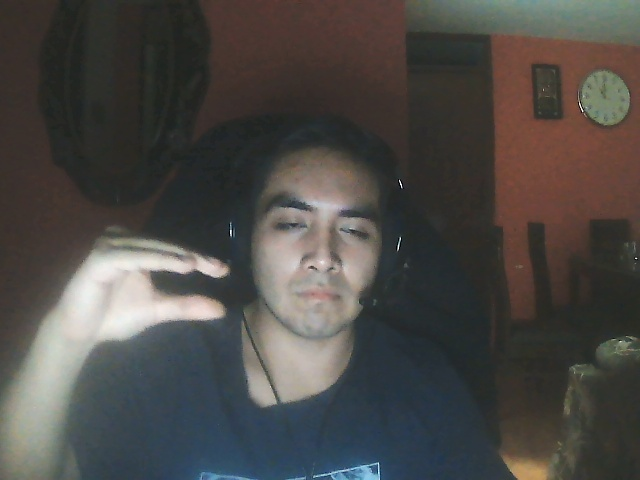no: (50, 223, 229, 355)
